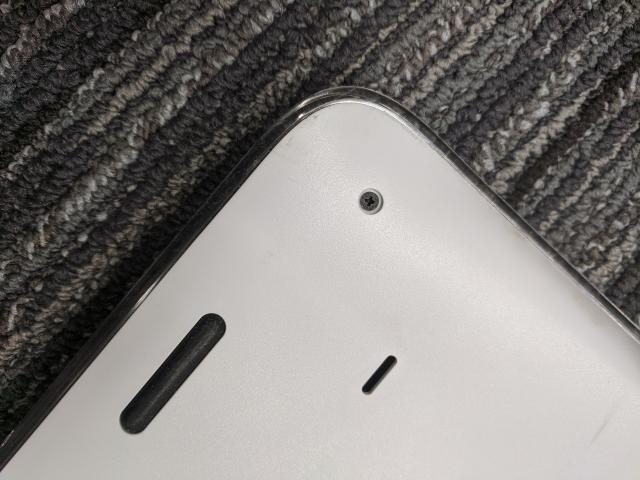CRS: (360, 189, 380, 211)
